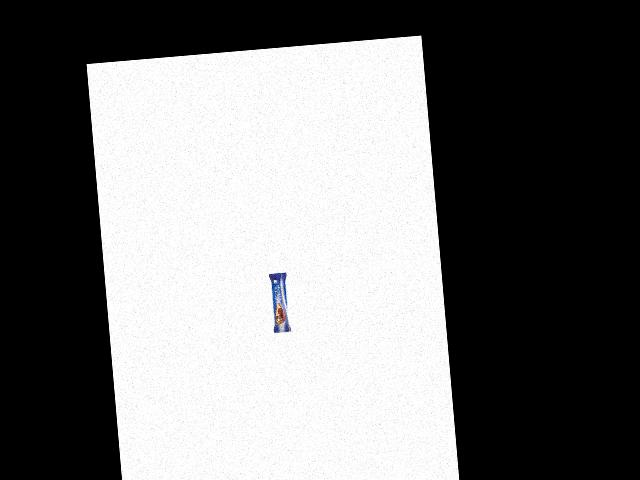chocolate: (262, 270, 293, 341)
